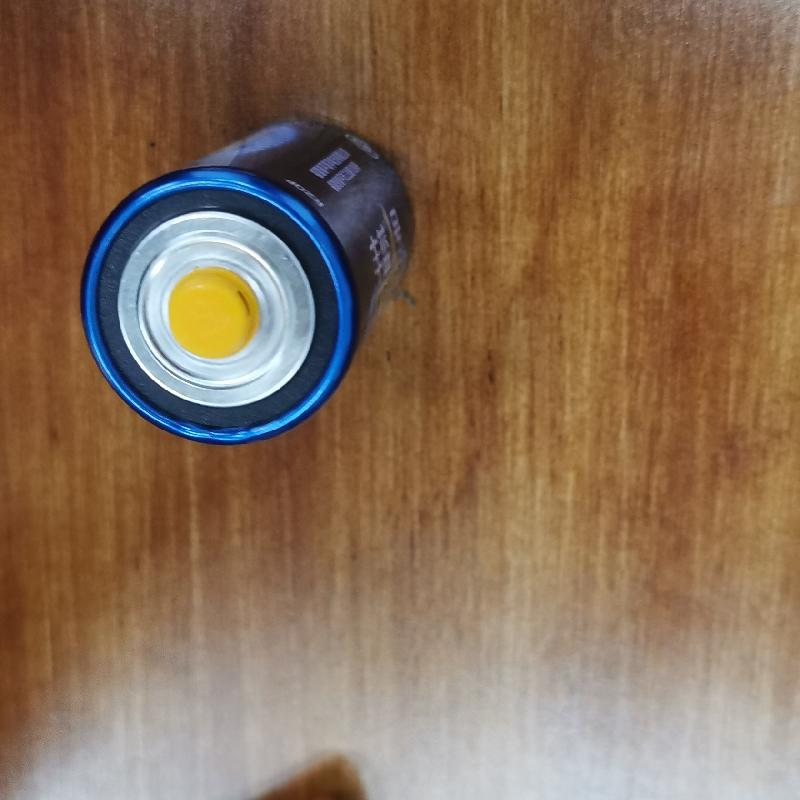battery: (78, 114, 418, 448)
